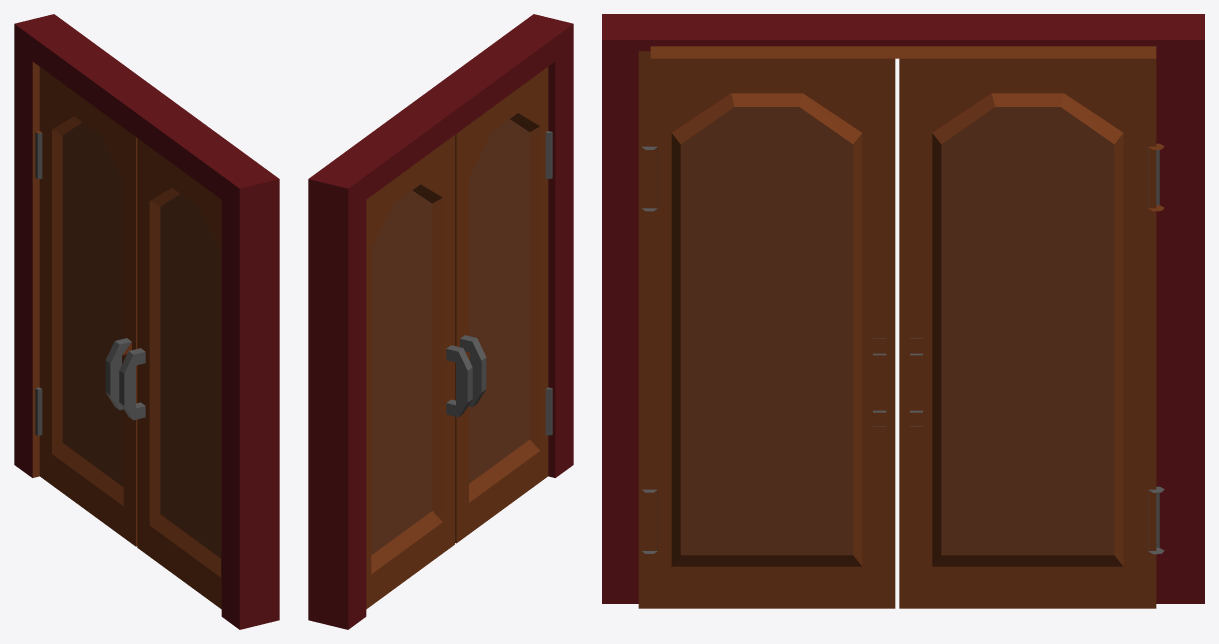
Rendered from door.fbx.
3 views of the same model, side by side, from view 1: azimuth 30°, elevation 25°; view 2: azimuth 150°, elevation 25°; view 3: azimuth 270°, elevation 25° (orthographic). The views are drawn at different scales.
Visible parts, largest first — view 1: door; view 2: door; view 3: door.
Part boxes in pixels (x1,y1,x2,y2): door: [14, 14, 279, 629]; door: [308, 14, 573, 629]; door: [602, 14, 1204, 608].
Bounding box in the file's own units: 96.8 × 755 × 700.
